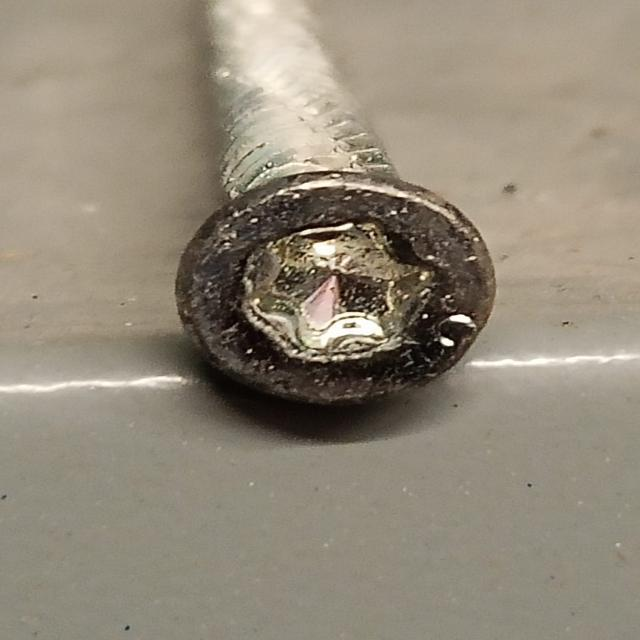torx: (172, 174, 499, 411)
